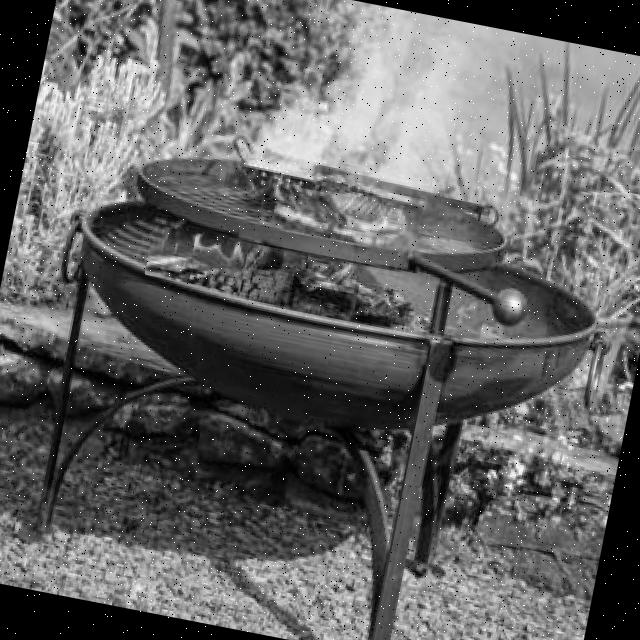fire: (144, 224, 250, 294)
